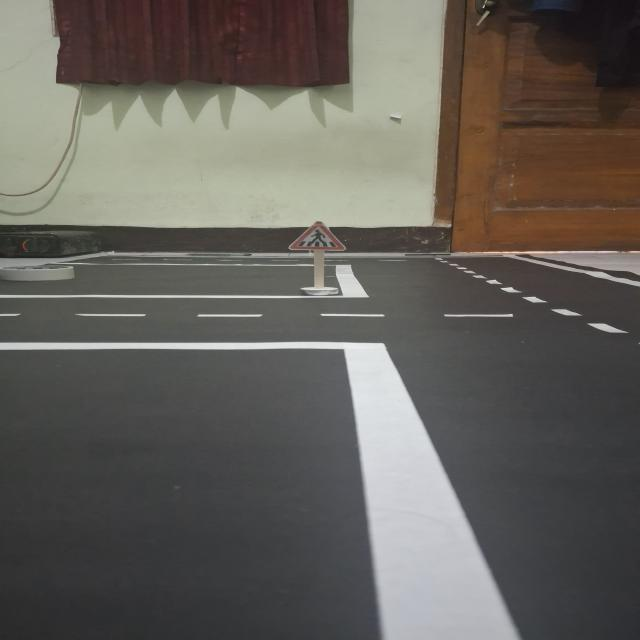Rambu Penyebrangan: (288, 221, 345, 250)
